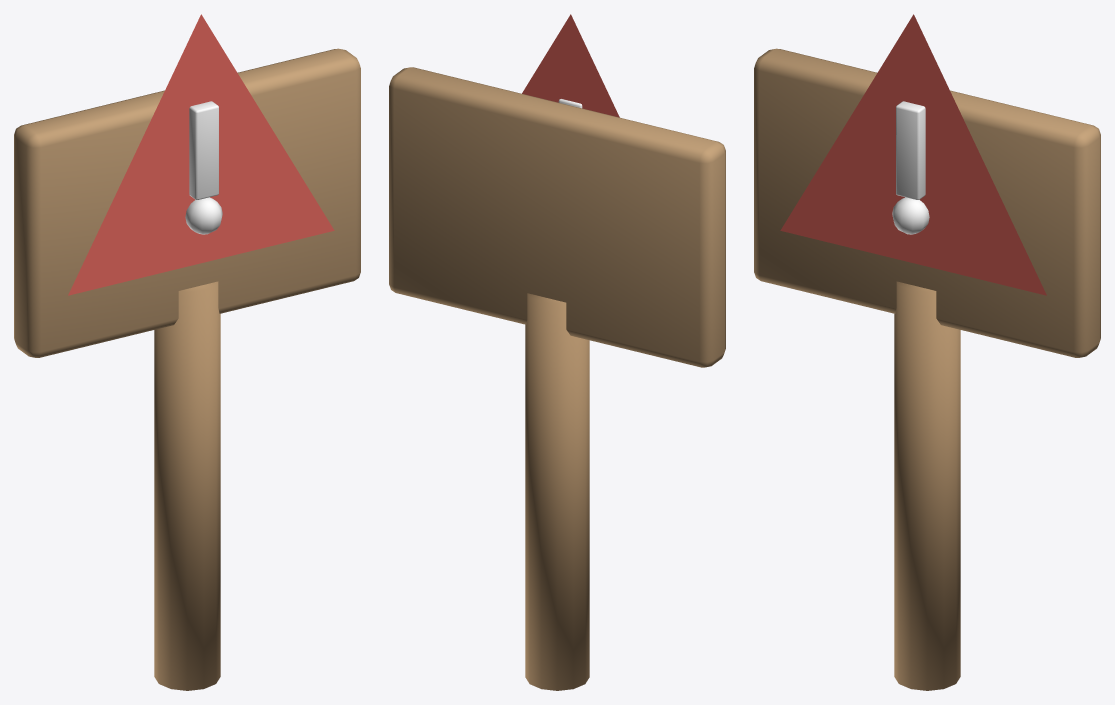
Rendered from sign.glb.
3 renders of one model, left to right at view 1: azimuth 30°, elevation 25°; view 2: azimuth 150°, elevation 25°; view 3: azimuth 330°, elevation 25°, orthographic. The views are drawn at different scales.
Parts seen in each view (by area): view 1: Board, Triangle, Post, Bang_V, Bang_Dot; view 2: Board, Post, Triangle; view 3: Board, Triangle, Post, Bang_V, Bang_Dot.
Boxes of the visible parts, x1,y1,x2,y2 form: Board: (14, 48, 360, 357); Triangle: (68, 14, 334, 295); Post: (154, 281, 220, 690); Bang_V: (189, 101, 218, 199); Bang_Dot: (185, 197, 222, 234); Board: (389, 67, 725, 367); Post: (525, 293, 589, 690); Triangle: (522, 14, 619, 117); Board: (754, 48, 1100, 357); Triangle: (780, 14, 1046, 295); Post: (894, 281, 960, 690); Bang_V: (896, 101, 925, 199); Bang_Dot: (892, 197, 929, 234).
Bounding box in the file's own units: 0.7 × 1.35 × 0.155.
